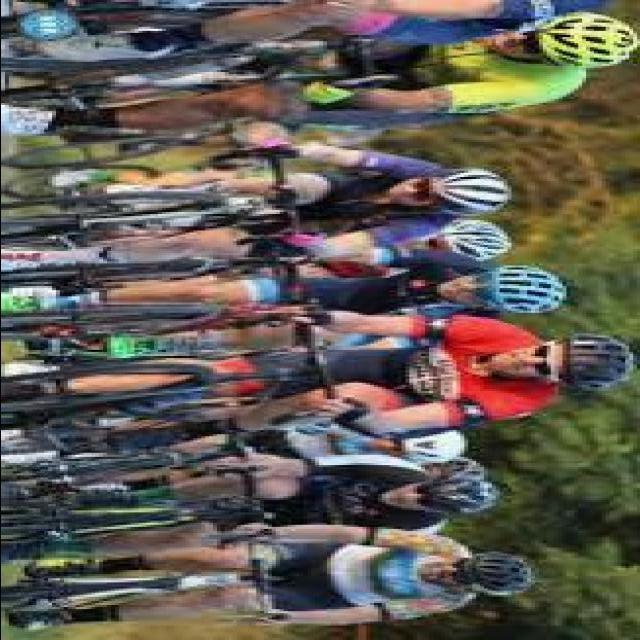bicycle: (1, 326, 339, 420), (5, 172, 307, 236), (1, 435, 268, 503), (5, 563, 280, 625), (1, 246, 331, 296), (6, 122, 288, 174)
